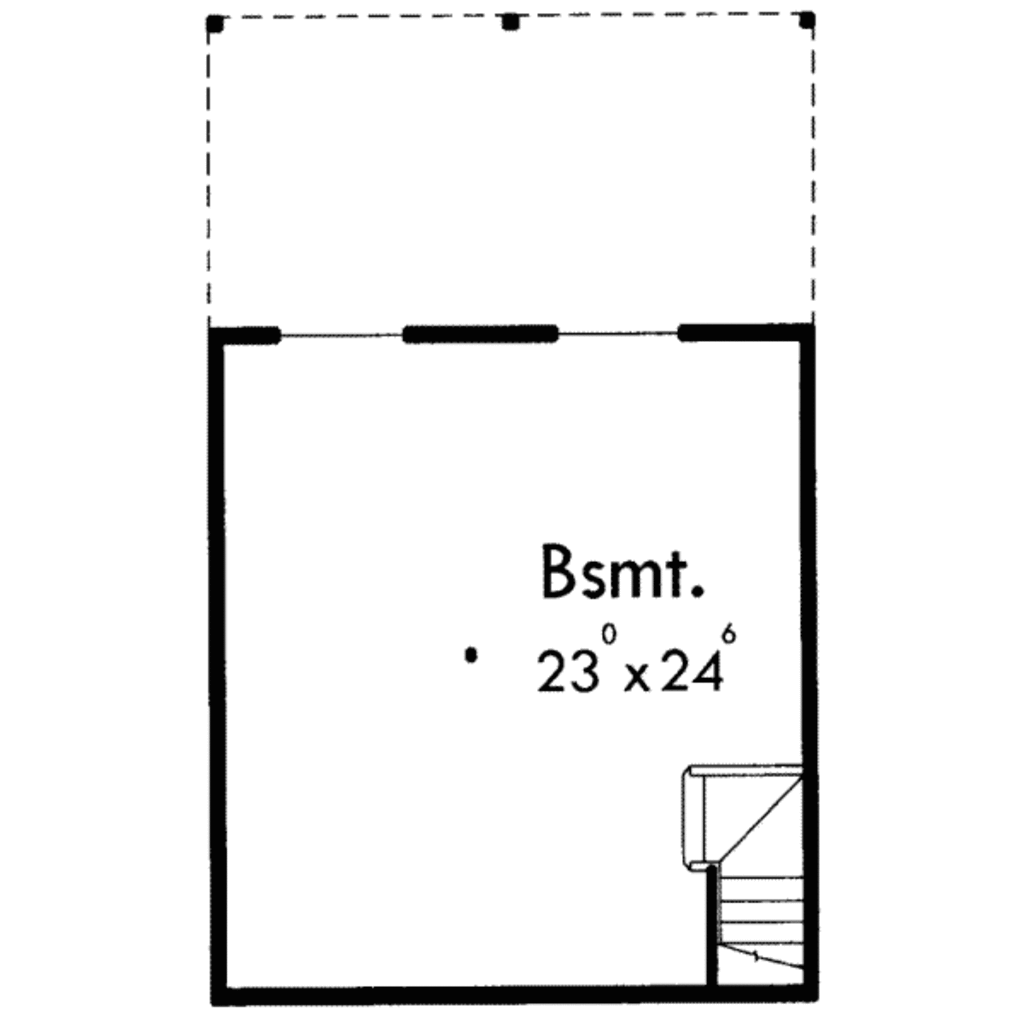stairs: (661, 764, 808, 999)
